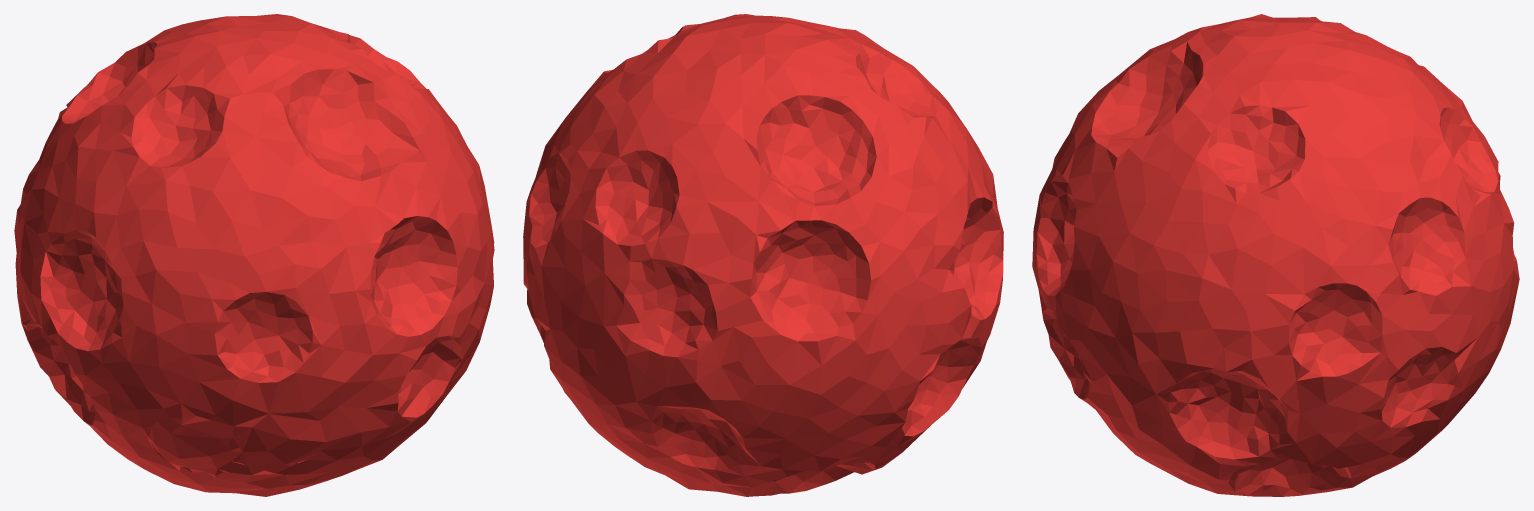
The model's file is Planet_2.glb.
3 renders of one model, left to right at view 1: azimuth 30°, elevation 25°; view 2: azimuth 150°, elevation 25°; view 3: azimuth 270°, elevation 25°, orthographic.
Visible parts, largest first — view 1: Planet_2; view 2: Planet_2; view 3: Planet_2.
Boxes of the visible parts, x1=… form: Planet_2: x1=14, y1=14, x2=494, y2=496; Planet_2: x1=523, y1=14, x2=1003, y2=496; Planet_2: x1=1032, y1=14, x2=1519, y2=496.
Size of the model in its own units: 20.19 by 20.11 by 20.21.
Materials: 1 (1 with a texture image).
